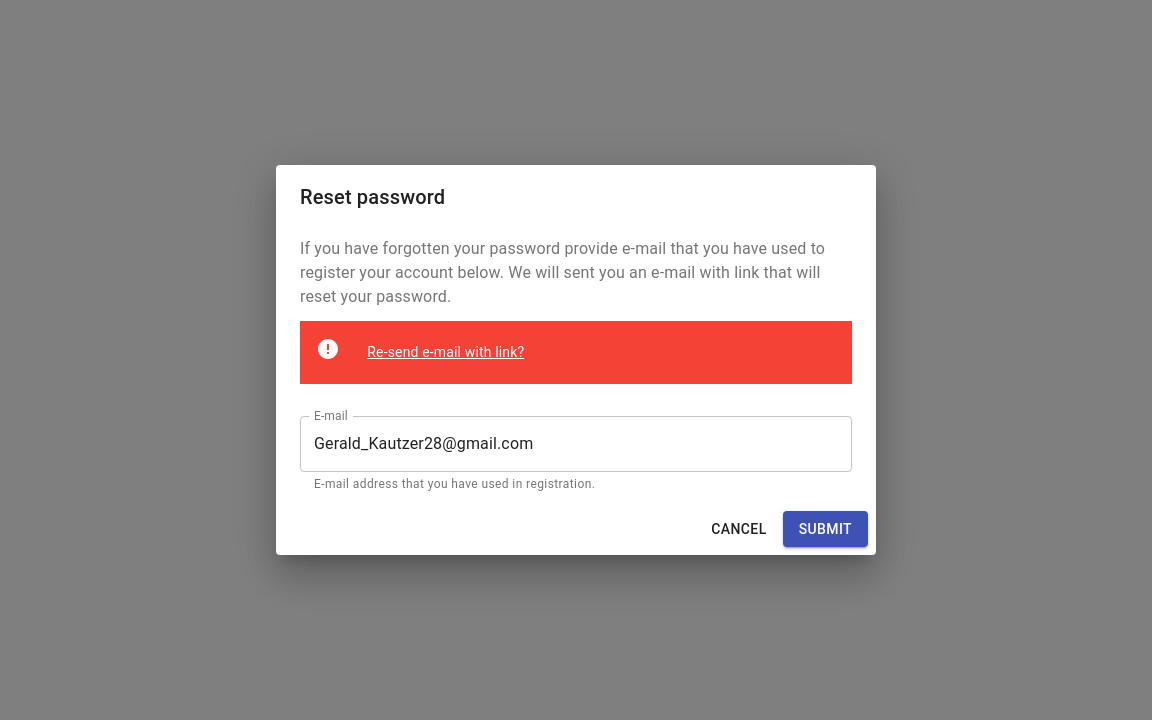
it: PasswordResetDialog › should re-send password link after clicking link
Click the link with class "resend-link" at [446, 352], box [367,344,524,360]
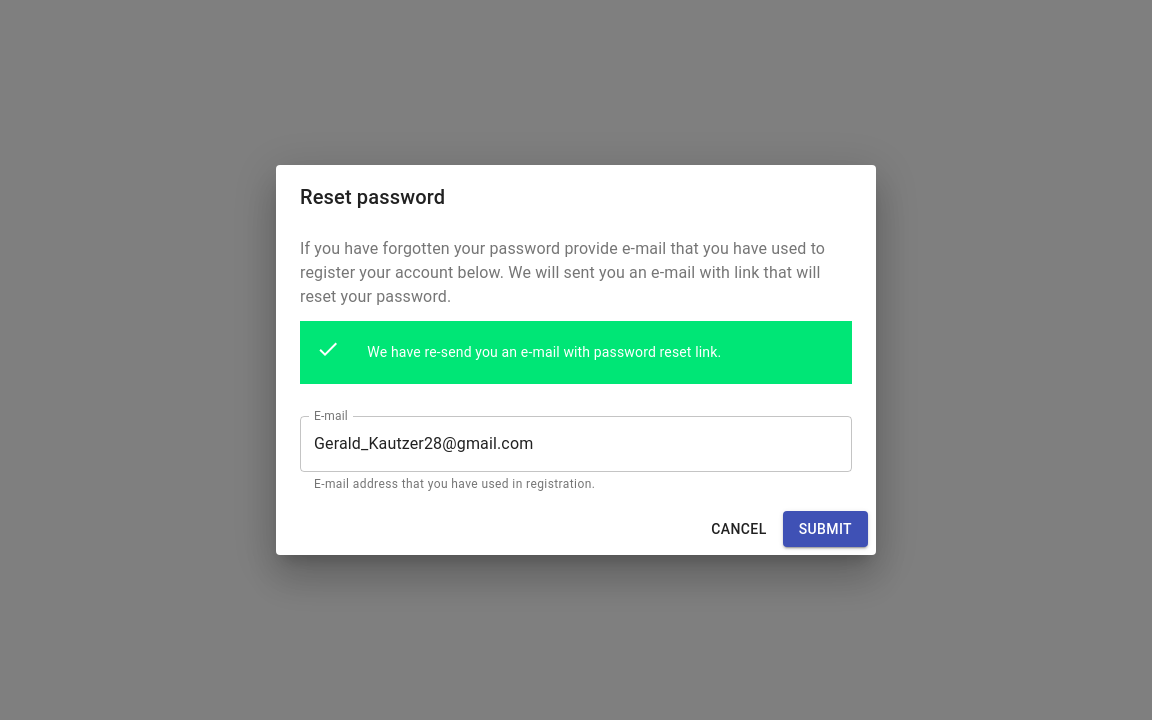
Now the element with class "success-notice" reads "We have re-send you an e-mail with password reset link.", box [367,344,721,360]
